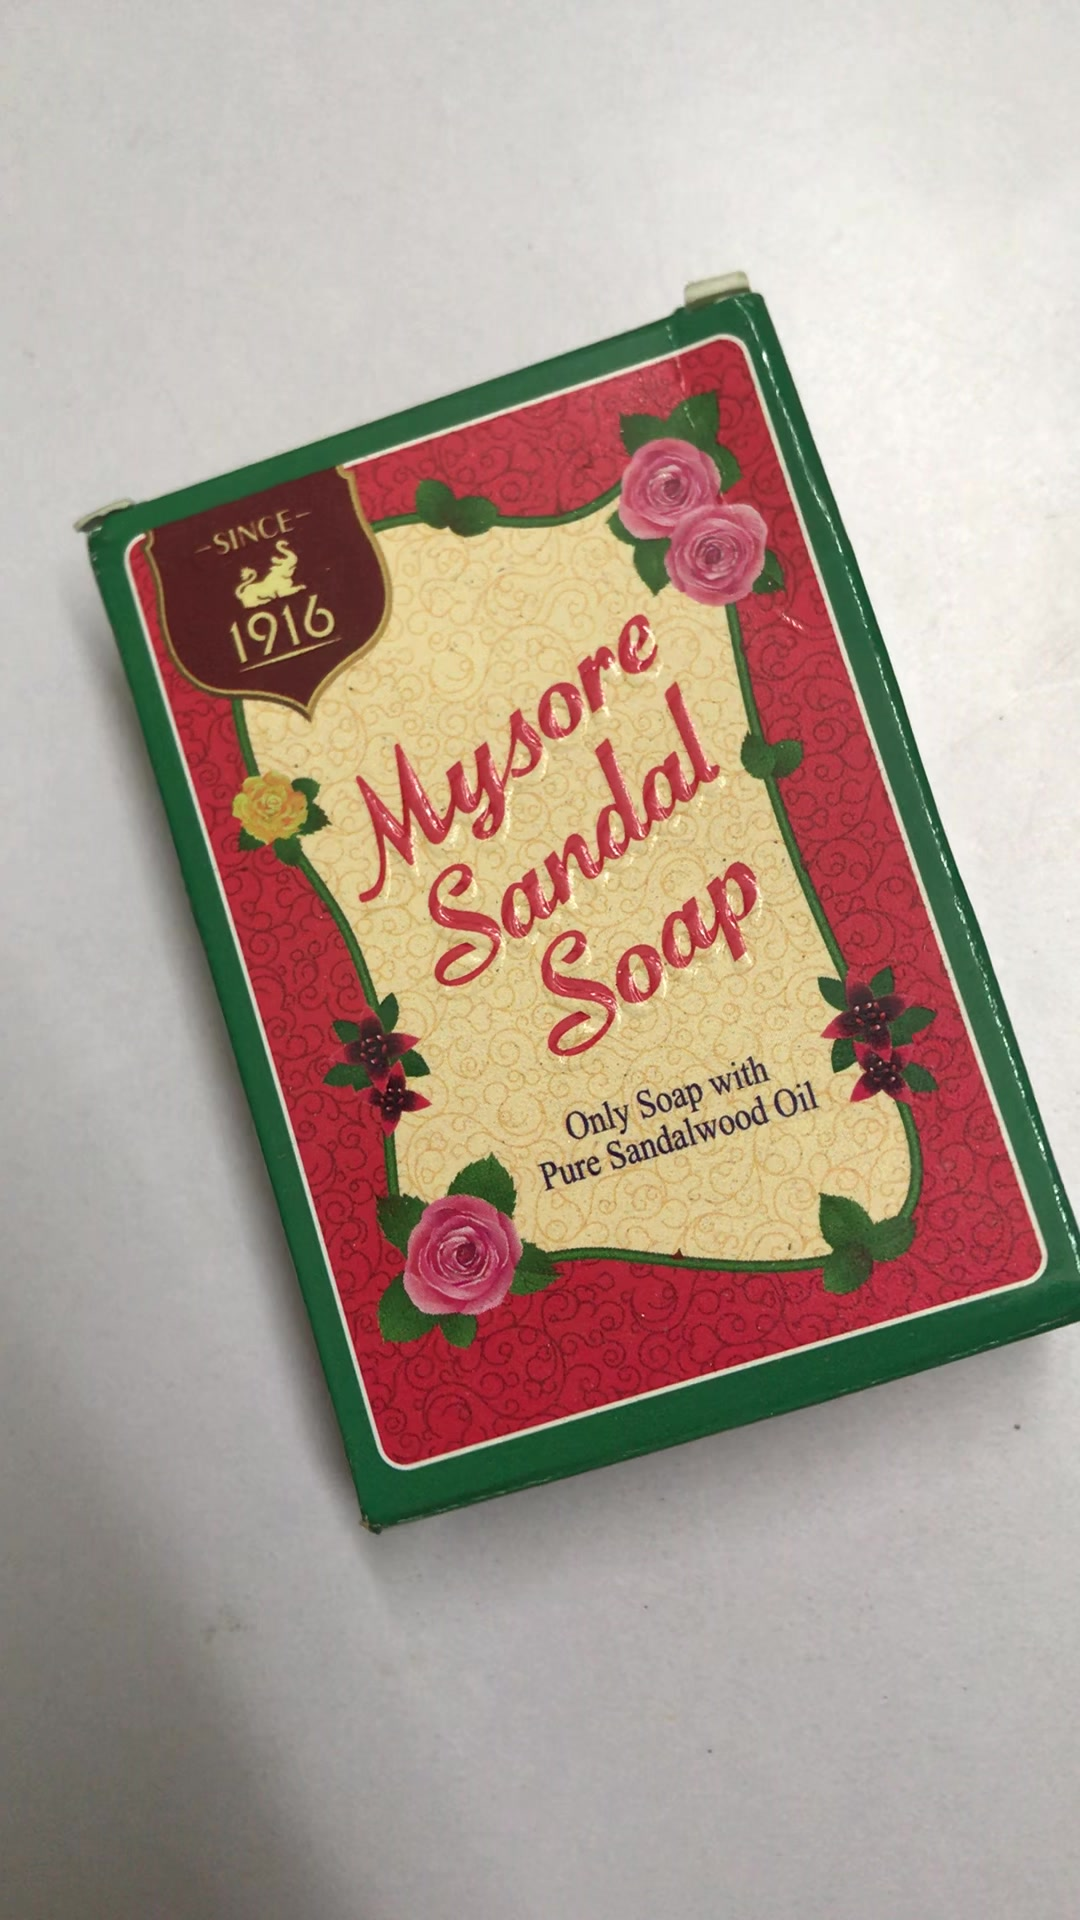mysore sandal soap: (84, 276, 1080, 1528)
